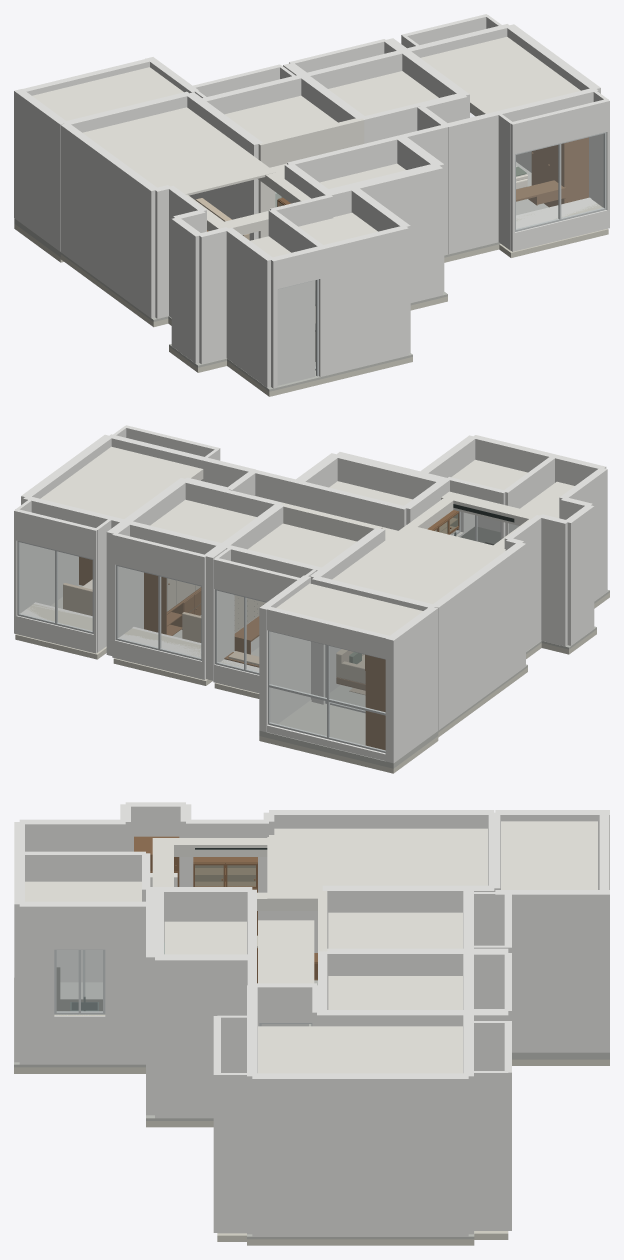
Rendered from MYM-03-软装版本.glb.
The picture shows the model from 3 angles, top to bottom: view 1: azimuth 30°, elevation 25°; view 2: azimuth 150°, elevation 25°; view 3: azimuth 270°, elevation 25°; orthographic projection. The views are drawn at different scales.
Visible parts, largest first — view 1: W-living-west-jamb-0, W-kitchen-exterior-south-jamb-0, C-panel-living, W-bay-master-bottom-room-jamb-0, C-panel-master, W-balcony-left-jamb-0, W-entry-west-jamb-0, W-bathroom-south-jamb-3, C-panel-balcony, W-west-niche-jamb-0, D-entry-leaf, W-west-return-south-jamb-0 (+56 smaller); view 2: W-living-west-jamb-0, C-panel-living, W-balcony-left-jamb-0, C-panel-master, WIN-balcony-glass-b, WIN-balcony-glass-a, W-balcony-right-jamb-0, C-panel-balcony, W-west-niche-jamb-0, W-west-return-jamb-0, FIN-balcony-pending, W-master-east-jamb-0 (+72 smaller); view 3: W-master-east-jamb-0, W-balcony-right-jamb-0, C-panel-living, W-bathroom-east-jamb-0, C-panel-master, W-kitchen-exterior-east-jamb-0, C-panel-balcony, W-kitchen-exterior-east-jamb-3, W-bay-master-top-right-jamb-0, C-panel-bedroom1, W-bay-master-bottom-right-jamb-0, W-living-west-jamb-0 (+43 smaller).
Part boxes in pixels (x1=…): W-living-west-jamb-0: x1=60, y1=124, x2=157, y2=318; W-kitchen-exterior-south-jamb-0: x1=321, y1=225, x2=408, y2=375; C-panel-living: x1=82, y1=107, x2=275, y2=195; W-bay-master-bottom-room-jamb-0: x1=445, y1=111, x2=499, y2=254; C-panel-master: x1=421, y1=37, x2=580, y2=113; W-balcony-left-jamb-0: x1=14, y1=89, x2=65, y2=251; W-entry-west-jamb-0: x1=226, y1=227, x2=273, y2=387; W-bathroom-south-jamb-3: x1=390, y1=164, x2=442, y2=302; C-panel-balcony: x1=32, y1=67, x2=183, y2=120; W-west-niche-jamb-0: x1=171, y1=217, x2=202, y2=363; D-entry-leaf: x1=277, y1=280, x2=315, y2=385; W-west-return-south-jamb-0: x1=199, y1=227, x2=229, y2=364; W-living-west-jamb-0: x1=432, y1=542, x2=525, y2=730; C-panel-living: x1=332, y1=524, x2=505, y2=603; W-balcony-left-jamb-0: x1=385, y1=606, x2=438, y2=763; C-panel-master: x1=40, y1=446, x2=202, y2=518; WIN-balcony-glass-b: x1=269, y1=632, x2=326, y2=736; WIN-balcony-glass-a: x1=329, y1=646, x2=385, y2=750; W-balcony-right-jamb-0: x1=259, y1=575, x2=310, y2=732; C-panel-balcony: x1=276, y1=583, x2=422, y2=635; W-west-niche-jamb-0: x1=566, y1=504, x2=594, y2=645; W-west-return-jamb-0: x1=538, y1=514, x2=569, y2=646; FIN-balcony-pending: x1=259, y1=699, x2=438, y2=768; W-master-east-jamb-0: x1=21, y1=434, x2=113, y2=605; W-master-east-jamb-0: x1=252, y1=1073, x2=468, y2=1236; W-balcony-right-jamb-0: x1=495, y1=890, x2=609, y2=1052; C-panel-living: x1=267, y1=828, x2=487, y2=901; W-bathroom-east-jamb-0: x1=155, y1=954, x2=251, y2=1118; C-panel-master: x1=258, y1=1026, x2=462, y2=1073; W-kitchen-exterior-east-jamb-0: x1=105, y1=901, x2=145, y2=1064; C-panel-balcony: x1=501, y1=821, x2=597, y2=889; W-kitchen-exterior-east-jamb-3: x1=19, y1=901, x2=54, y2=1064; W-bay-master-top-right-jamb-0: x1=468, y1=1071, x2=508, y2=1230; C-panel-bedroom1: x1=328, y1=912, x2=462, y2=948; W-bay-master-bottom-right-jamb-0: x1=217, y1=1073, x2=251, y2=1233; W-living-west-jamb-0: x1=269, y1=810, x2=494, y2=952.
Bounding box in the file's own units: 11.08 × 3.2 × 10.08.
